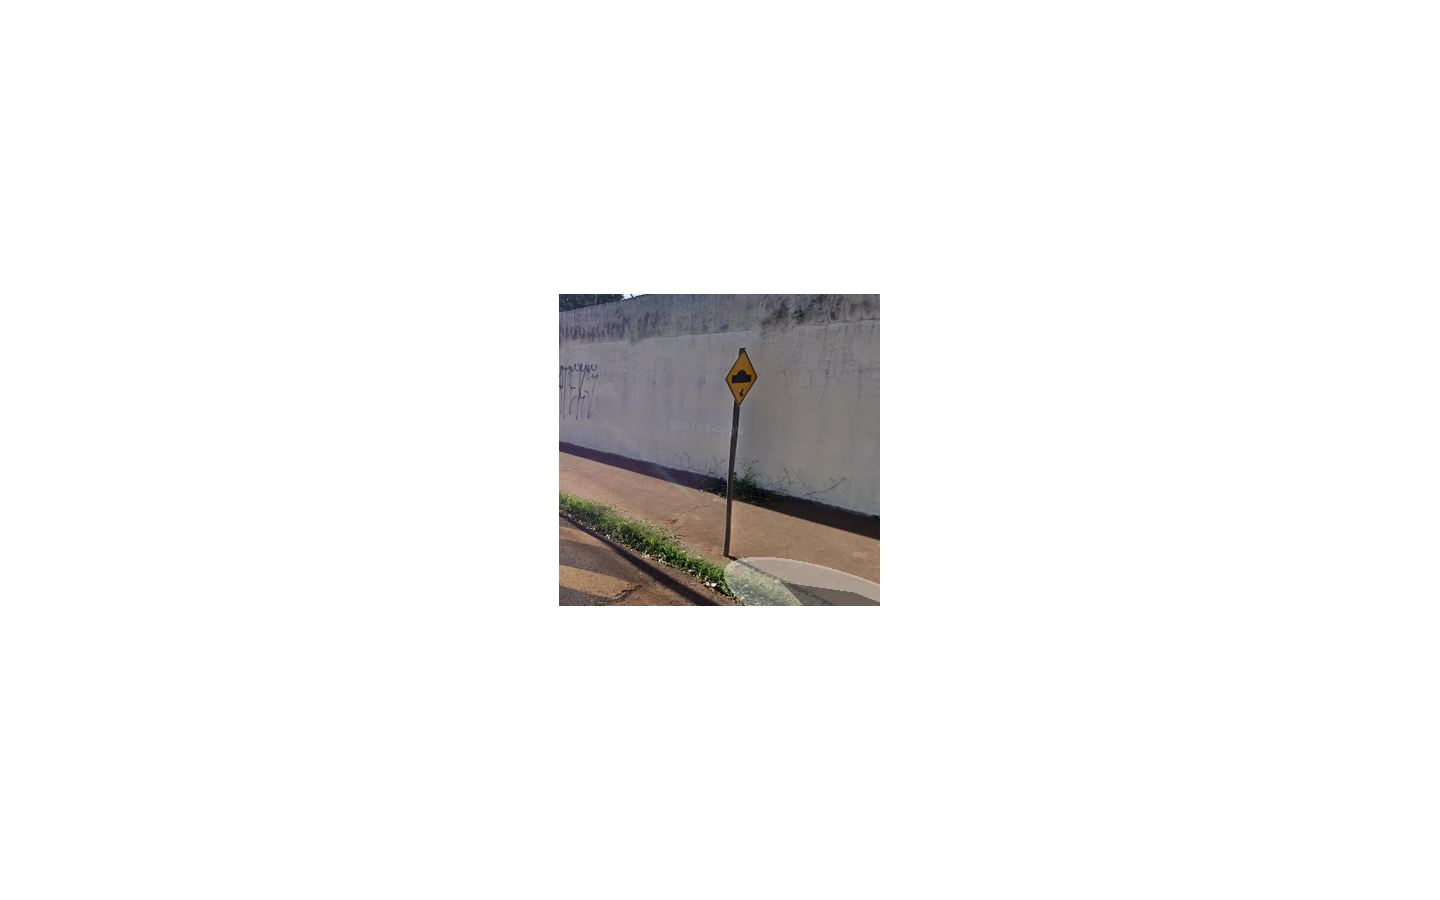lomb: (726, 351, 757, 405)
